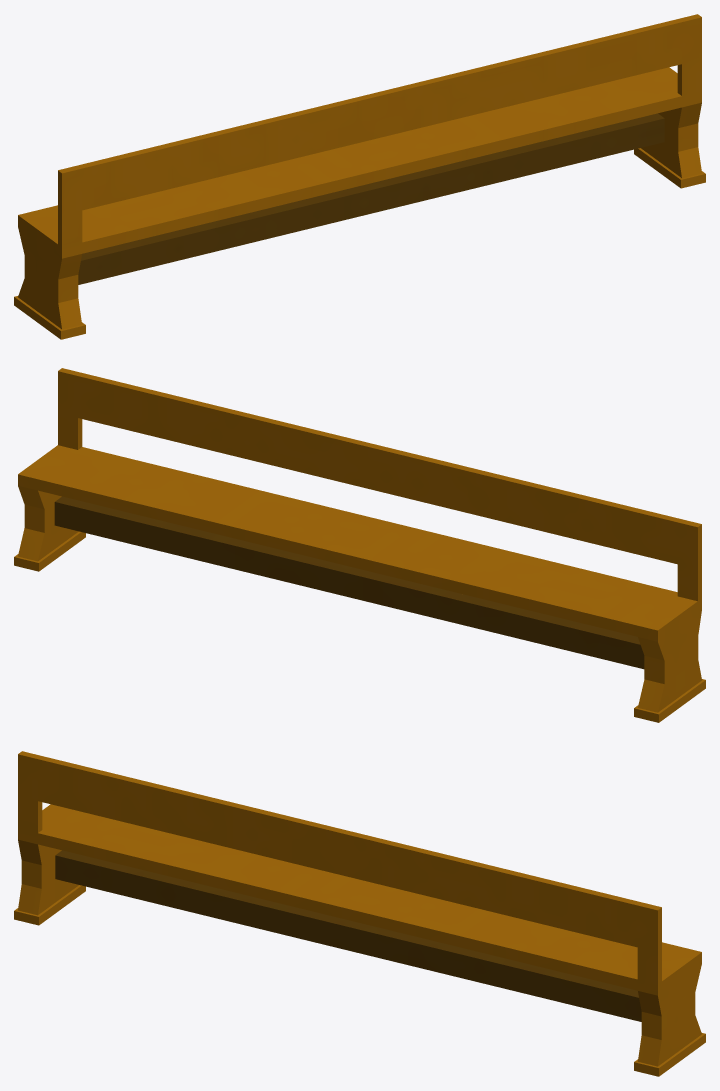
The model's file is Bench_2_Big.fbx.
The picture shows the model from 3 angles, top to bottom: view 1: azimuth 30°, elevation 25°; view 2: azimuth 150°, elevation 25°; view 3: azimuth 330°, elevation 25°; orthographic projection.
Parts seen in each view (by area): view 1: Bench 2_Big; view 2: Bench 2_Big; view 3: Bench 2_Big.
Boxes of the visible parts, box(x1,y1,x2,y2) form: Bench 2_Big: box(14, 14, 705, 339); Bench 2_Big: box(14, 368, 705, 722); Bench 2_Big: box(14, 751, 705, 1076).
Size of the model in its own units: 430 by 105 by 54.42.
